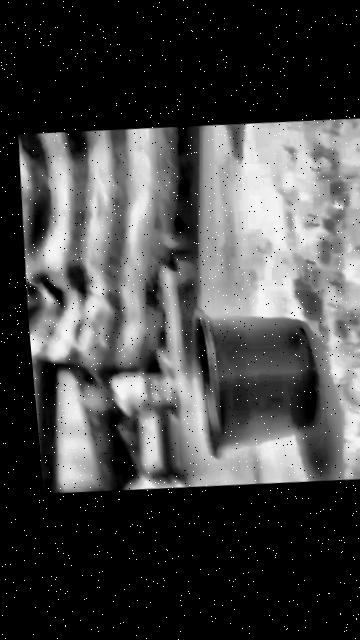pot: (190, 303, 326, 459)
